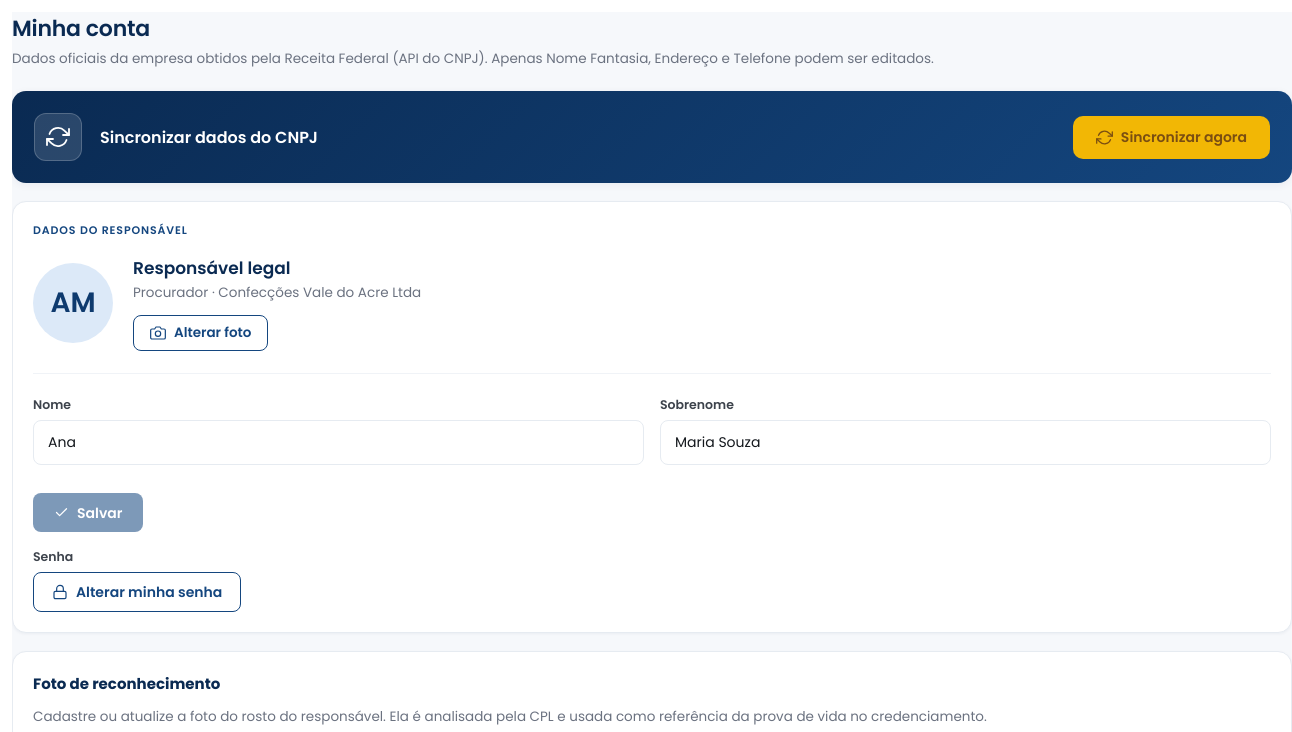
Test: Minha conta — Dados do responsável (RF018) › salva o nome rejuntando nome + sobrenome em um único campo
Expected: the button with test id "salvar-nome" is disabled, [33, 493, 144, 532]
Replace the text in the 1st field showing "Ana" with "Ana Paula": (338, 442) [33, 420, 644, 465]
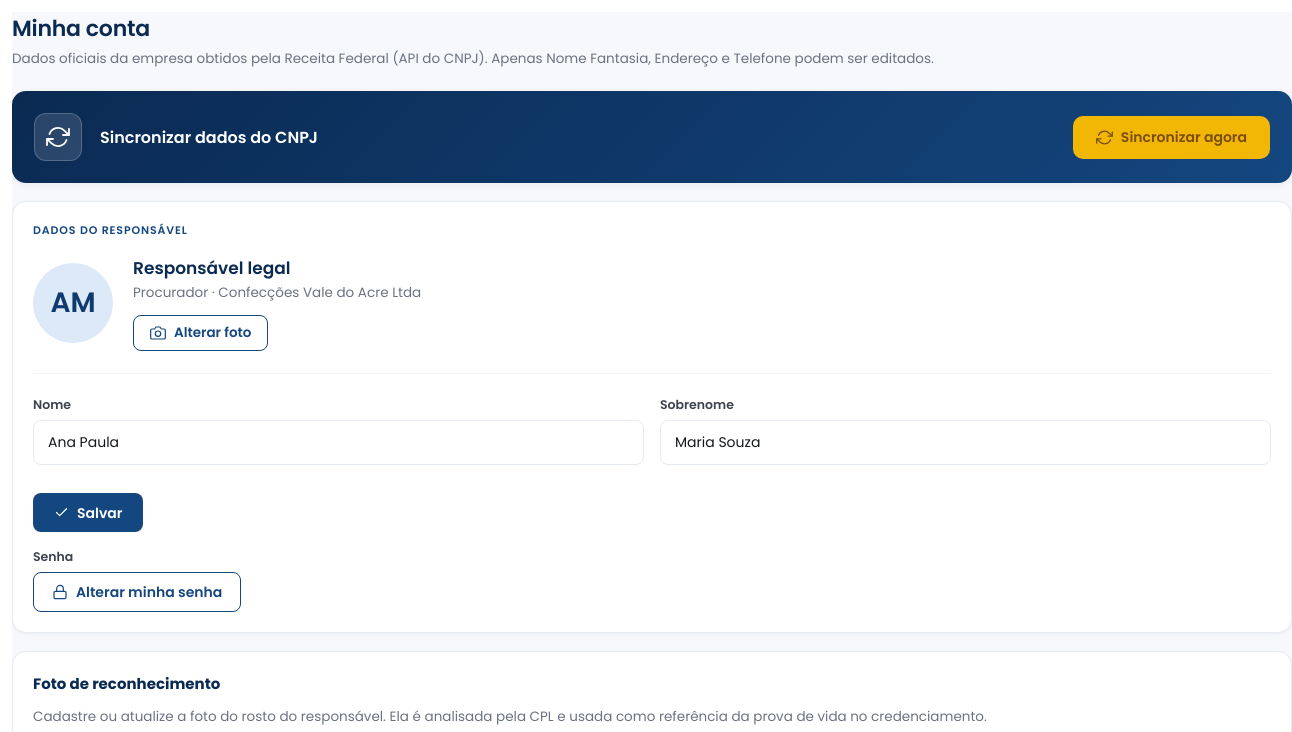
Click the button with test id "salvar-nome": click(88, 512) [33, 493, 144, 532]
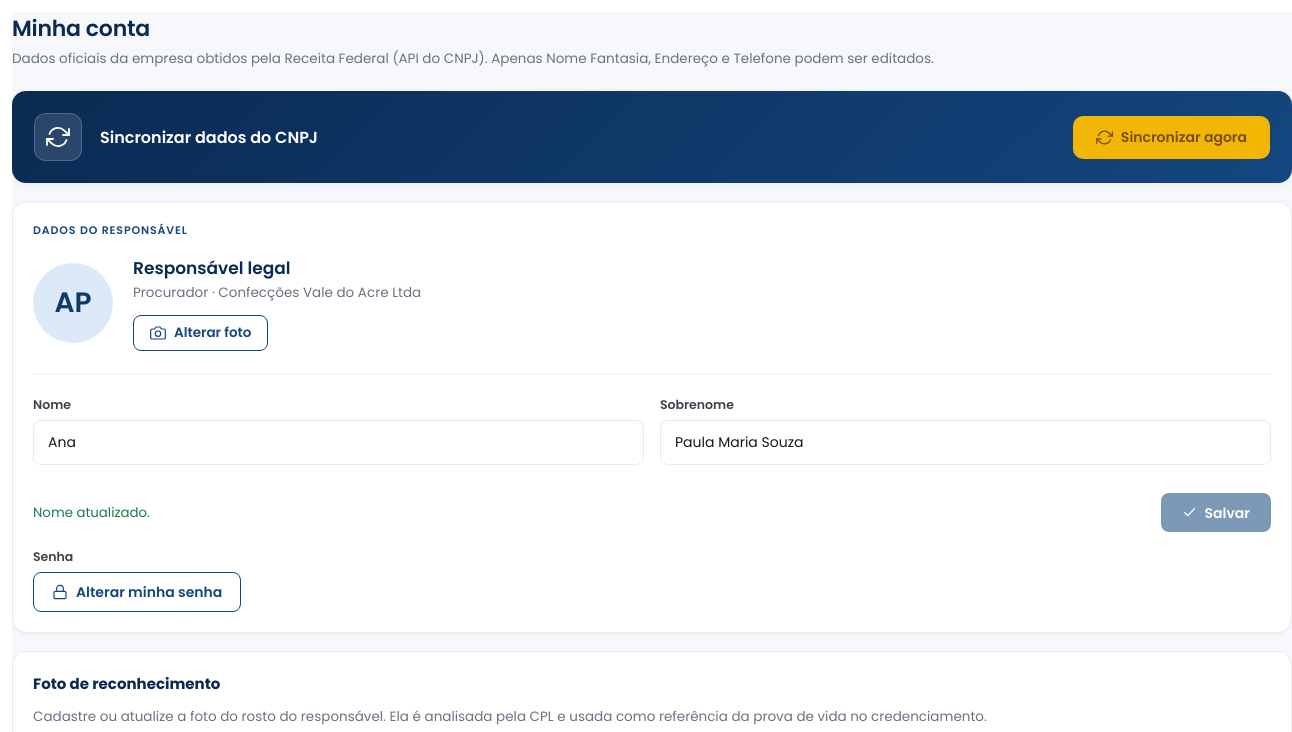
Now the text "Nome atualizado." is shown, box [33, 502, 150, 522]
